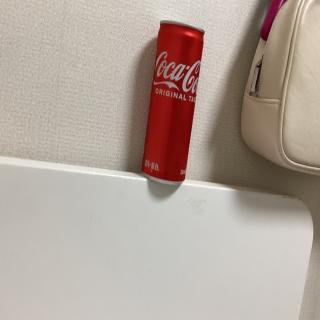cocacola: (144, 10, 206, 187)
